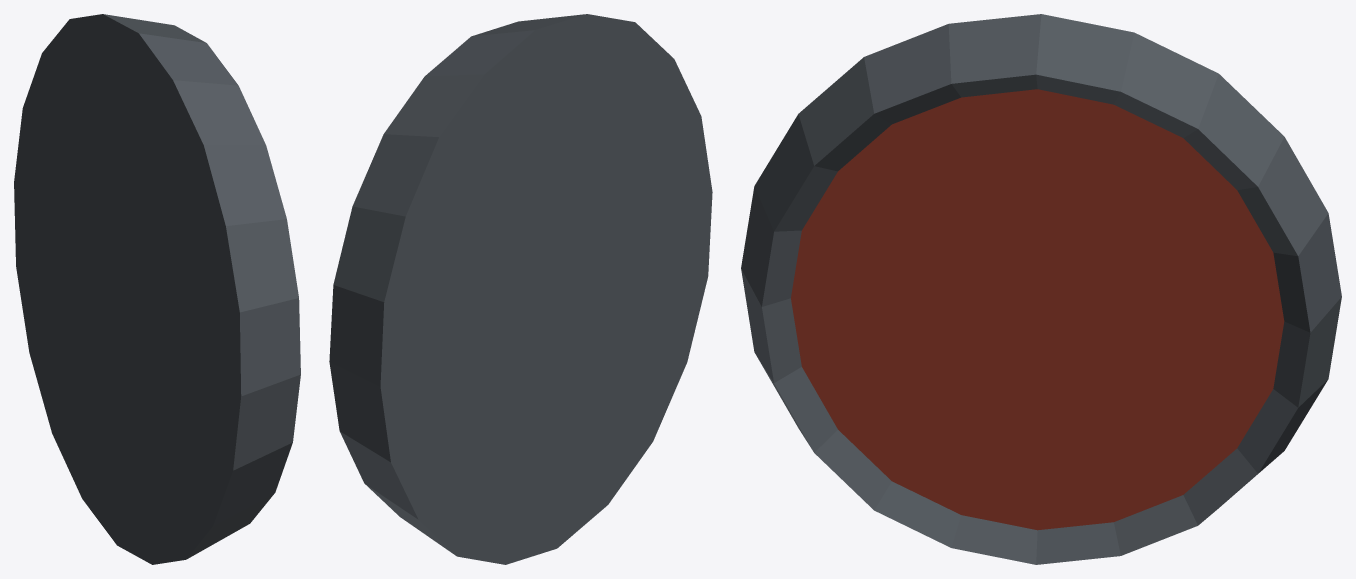
File: Dropship_04_Artillery_Mount_Red.fbx
3 views of the same model, side by side, from view 1: azimuth 30°, elevation 25°; view 2: azimuth 150°, elevation 25°; view 3: azimuth 270°, elevation 25° (orthographic). The views are drawn at different scales.
Parts seen in each view (by area): view 1: Dropship_04_Artillery_Mount_Red; view 2: Dropship_04_Artillery_Mount_Red; view 3: Dropship_04_Artillery_Mount_Red.
Boxes of the visible parts, x1,y1,x2,y2 form: Dropship_04_Artillery_Mount_Red: [14, 14, 300, 564]; Dropship_04_Artillery_Mount_Red: [329, 14, 712, 564]; Dropship_04_Artillery_Mount_Red: [741, 14, 1341, 564].
Size of the model in its own units: 50.68 by 206 by 205.
Materials: 1 (1 with a texture image).
